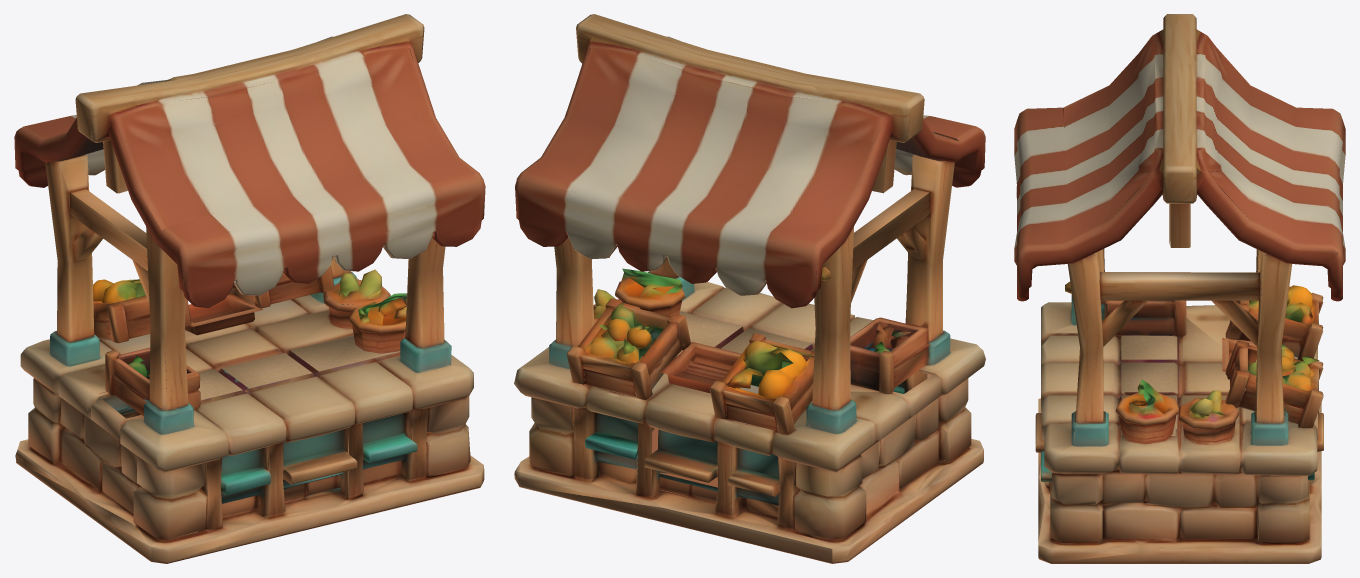
Rendered from market_stall.glb.
3 views of the same model, side by side, from view 1: azimuth 30°, elevation 25°; view 2: azimuth 150°, elevation 25°; view 3: azimuth 270°, elevation 25° (orthographic). The views are drawn at different scales.
Parts seen in each view (by area): view 1: market_stall; view 2: market_stall; view 3: market_stall.
Boxes of the visible parts, bbox=[...] form: market_stall: bbox=[14, 14, 485, 563]; market_stall: bbox=[514, 14, 985, 563]; market_stall: bbox=[1014, 14, 1345, 563].
Size of the model in its own units: 11.02 by 13 by 9.85.
1 material, 1 textured.
